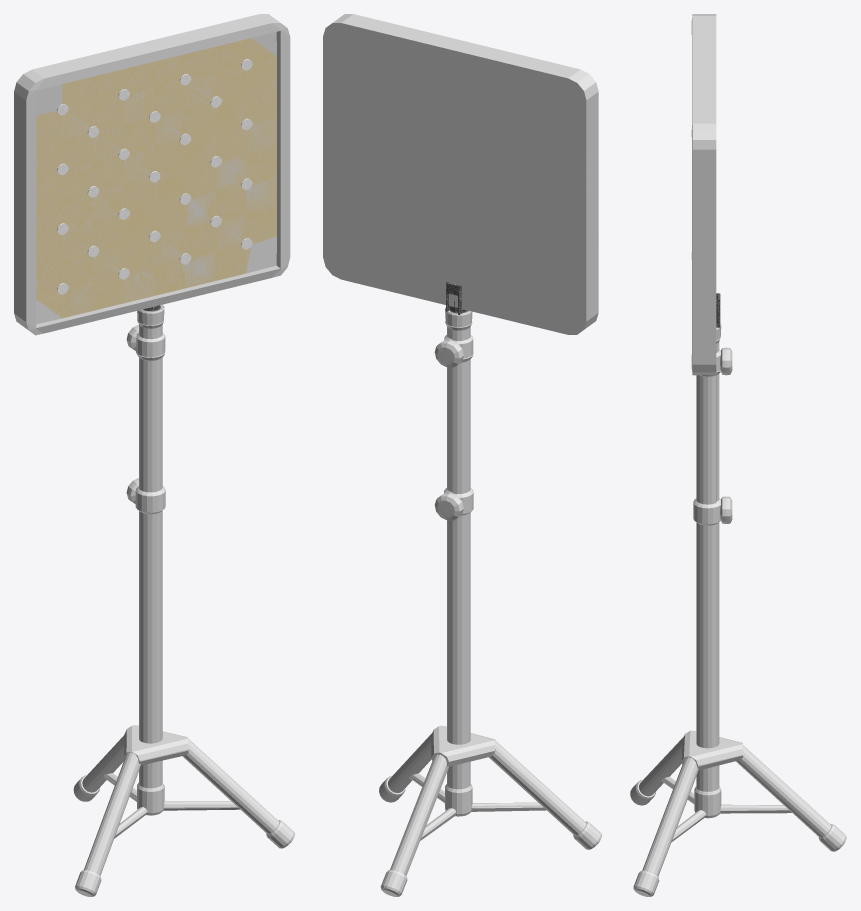
Rendered from HighLights.fbx.
3 views of the same model, side by side, from view 1: azimuth 30°, elevation 25°; view 2: azimuth 150°, elevation 25°; view 3: azimuth 270°, elevation 25° (orthographic). The views are drawn at different scales.
Visible parts, largest first — view 1: Cube; view 2: Cube; view 3: Cube.
Part boxes in pixels (<box>): Cube: <box>14,14,294,896</box>; Cube: <box>323,14,601,896</box>; Cube: <box>630,14,846,896</box>.
Bounding box in the file's own units: 56.1 × 163 × 41.05.
